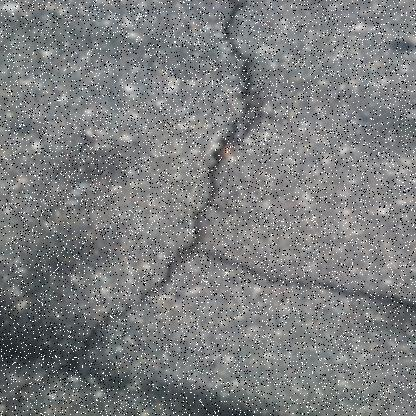Cracks: (0, 0, 272, 408), (178, 232, 416, 322)
